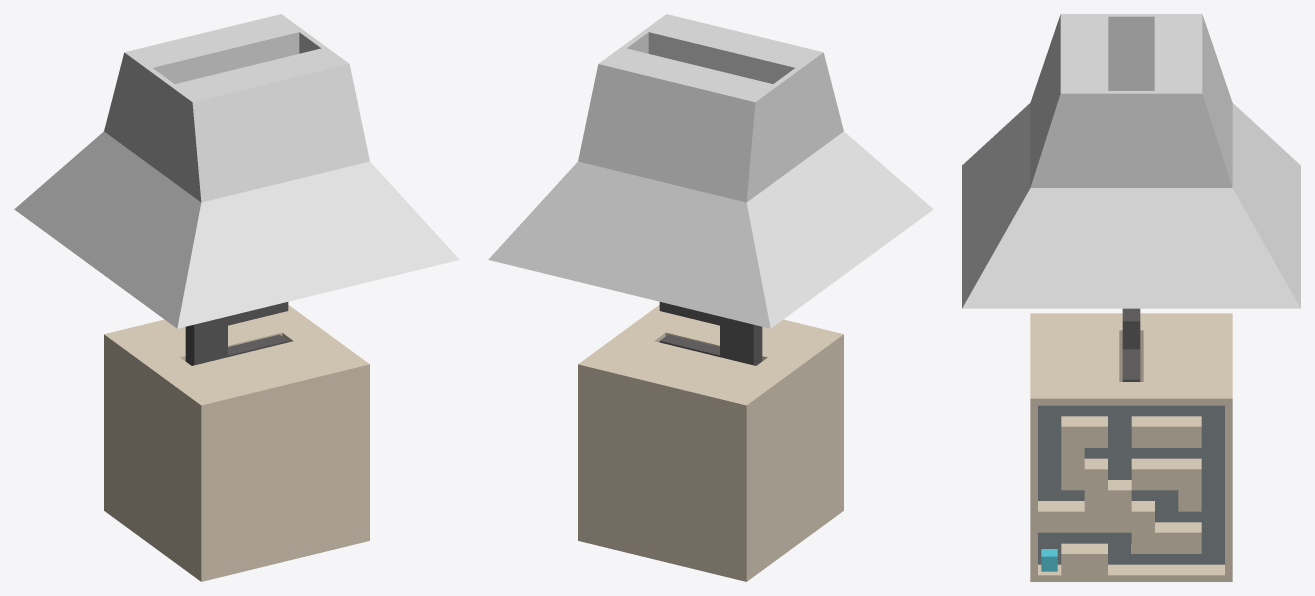
File: Artifact.fbx
The picture shows the model from 3 angles, left to right: view 1: azimuth 30°, elevation 25°; view 2: azimuth 150°, elevation 25°; view 3: azimuth 270°, elevation 25°; orthographic projection. The views are drawn at different scales.
Visible parts, largest first — view 1: Keyhole, Artifact, KeyArtifact; view 2: Keyhole, Artifact, KeyArtifact; view 3: Keyhole, Artifact, KeyArtifact.
Boxes of the visible parts, left/top/right/bottom form: Keyhole: left=14, top=14, right=459, bottom=328; Artifact: left=104, top=305, right=369, bottom=581; KeyArtifact: left=185, top=302, right=288, bottom=365; Keyhole: left=488, top=14, right=933, bottom=328; Artifact: left=578, top=305, right=843, bottom=581; KeyArtifact: left=659, top=302, right=762, bottom=365; Keyhole: left=962, top=14, right=1300, bottom=308; Artifact: left=1030, top=313, right=1232, bottom=581; KeyArtifact: left=1122, top=308, right=1140, bottom=381.
Bounding box in the file's own units: 335 × 530 × 335.
